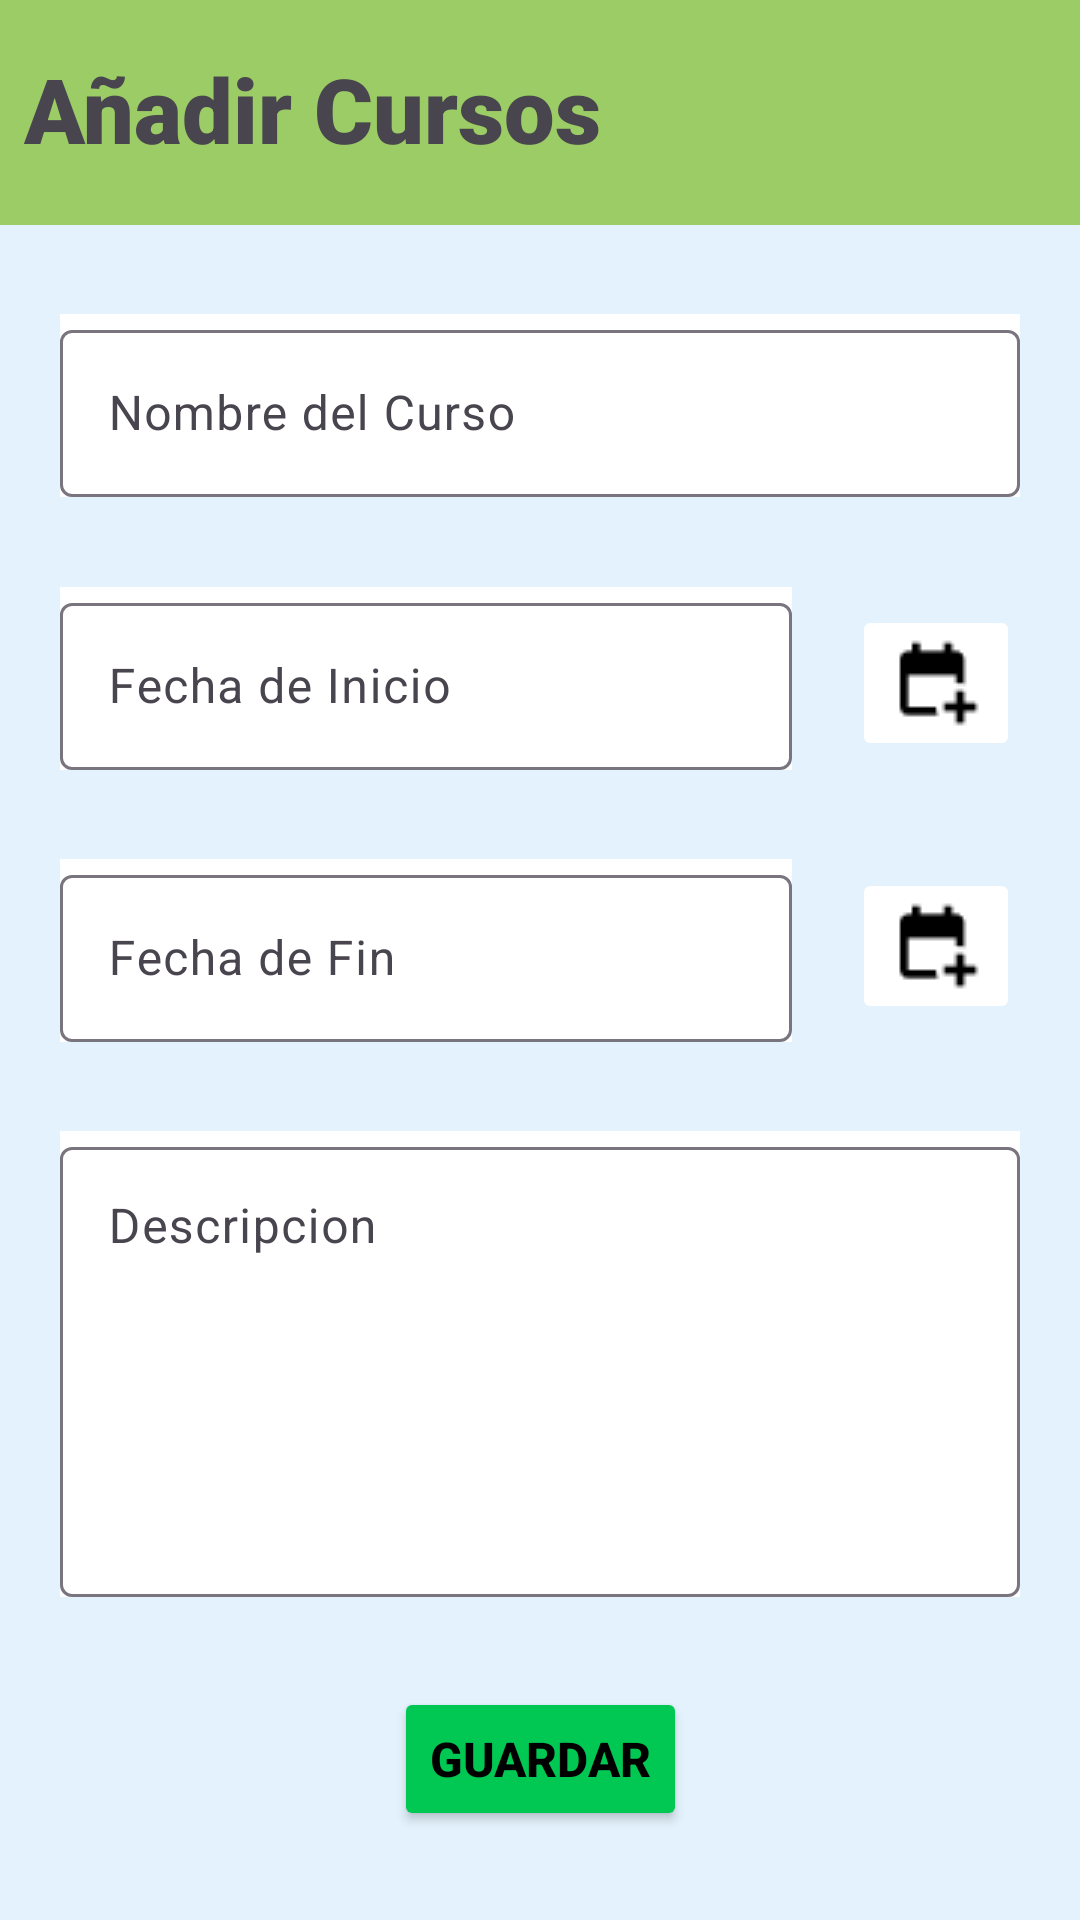

Screen size 1080x1920. Icon name, then its center in pixels as (x,y):
calendar: (936,683), (936,946)
